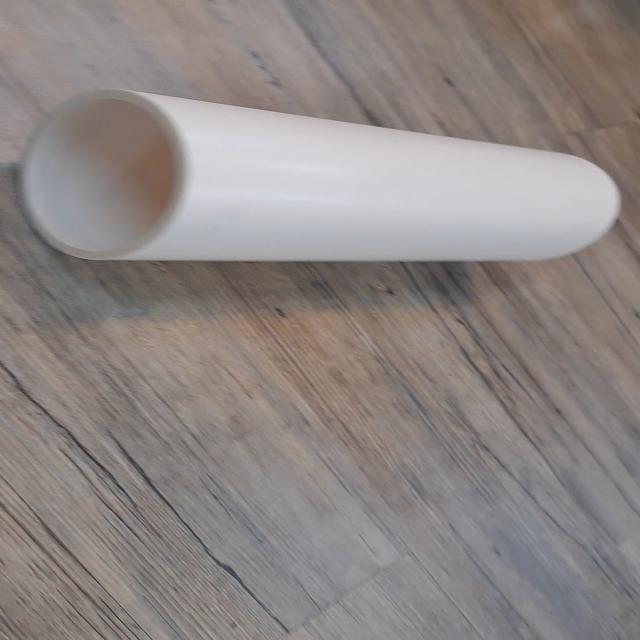CORAL: (15, 84, 628, 270)
